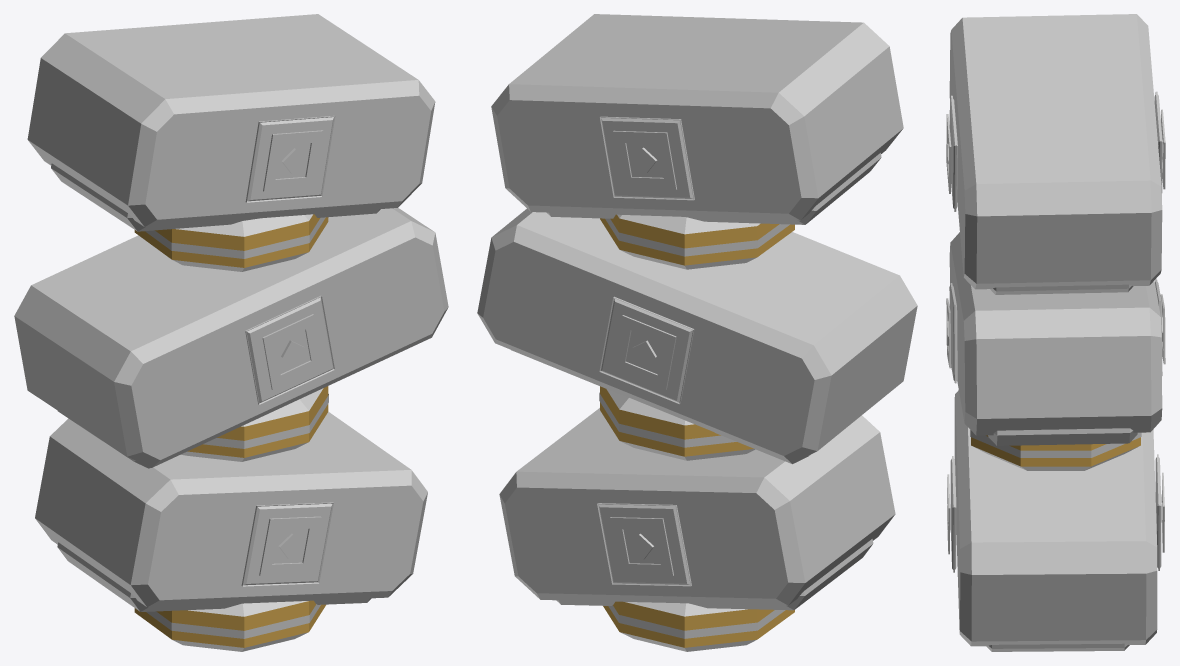
File: wand_motion_02.obj
The picture shows the model from 3 angles, left to right: view 1: azimuth 30°, elevation 25°; view 2: azimuth 150°, elevation 25°; view 3: azimuth 270°, elevation 25°; orthographic projection. The views are drawn at different scales.
Visible parts, largest first — view 1: chamfered_seal_tablet_2, chamfered_seal_tablet_1, chamfered_seal_tablet_0, tablet_spacer_2, tablet_spacer_0, inset_rune_socket_1, inset_rune_socket_3, inset_rune_socket_5, tablet_spacer_1, seal_shadow_base_2, seal_shadow_base_0, tablet_spacer_dark_seam_2 (+2 smaller); view 2: chamfered_seal_tablet_2, chamfered_seal_tablet_1, chamfered_seal_tablet_0, tablet_spacer_2, tablet_spacer_0, inset_rune_socket_4, inset_rune_socket_2, inset_rune_socket_0, tablet_spacer_1, seal_shadow_base_0, seal_shadow_base_2, tablet_spacer_dark_seam_2 (+2 smaller); view 3: chamfered_seal_tablet_2, chamfered_seal_tablet_0, chamfered_seal_tablet_1, tablet_spacer_1, seal_shadow_base_1, tablet_spacer_dark_seam_1, seal_shadow_base_2, seal_shadow_base_0, inset_rune_socket_5, inset_rune_socket_1, inset_rune_socket_3, inset_rune_socket_0 (+1 smaller).
Part boxes in pixels (box(x1,y1,x2,y2)): chamfered_seal_tablet_2: box(27, 14, 435, 226); chamfered_seal_tablet_1: box(14, 208, 448, 467); chamfered_seal_tablet_0: box(35, 412, 427, 607); tablet_spacer_2: box(134, 214, 328, 271); tablet_spacer_0: box(134, 600, 325, 651); inset_rune_socket_1: box(241, 502, 333, 586); inset_rune_socket_3: box(245, 295, 334, 404); inset_rune_socket_5: box(245, 115, 335, 202); tablet_spacer_1: box(181, 386, 328, 461); seal_shadow_base_2: box(51, 163, 380, 231); seal_shadow_base_0: box(57, 542, 371, 611); tablet_spacer_dark_seam_2: box(145, 217, 325, 258); chamfered_seal_tablet_2: box(491, 14, 903, 220); chamfered_seal_tablet_1: box(477, 208, 917, 463); chamfered_seal_tablet_0: box(499, 408, 895, 605); tablet_spacer_2: box(600, 214, 794, 269); tablet_spacer_0: box(603, 601, 794, 651); inset_rune_socket_4: box(600, 116, 694, 200); inset_rune_socket_2: box(599, 296, 694, 404); inset_rune_socket_0: box(597, 503, 691, 586); tablet_spacer_1: box(600, 386, 755, 460); seal_shadow_base_0: box(556, 539, 873, 610); seal_shadow_base_2: box(547, 153, 881, 224); tablet_spacer_dark_seam_2: box(605, 218, 789, 256); chamfered_seal_tablet_2: box(949, 14, 1162, 289); chamfered_seal_tablet_0: box(954, 390, 1157, 646); chamfered_seal_tablet_1: box(949, 232, 1162, 435); tablet_spacer_1: box(971, 435, 1140, 470); seal_shadow_base_1: box(988, 428, 1137, 445); tablet_spacer_dark_seam_1: box(970, 430, 1141, 457); seal_shadow_base_2: box(990, 284, 1133, 294); seal_shadow_base_0: box(986, 643, 1129, 651); inset_rune_socket_5: box(949, 95, 957, 211); inset_rune_socket_1: box(950, 456, 956, 572); inset_rune_socket_3: box(949, 283, 957, 383); inset_rune_socket_0: box(1155, 454, 1161, 570).
Bounding box in the file's own units: 0.1991 × 0.317 × 0.1147.
